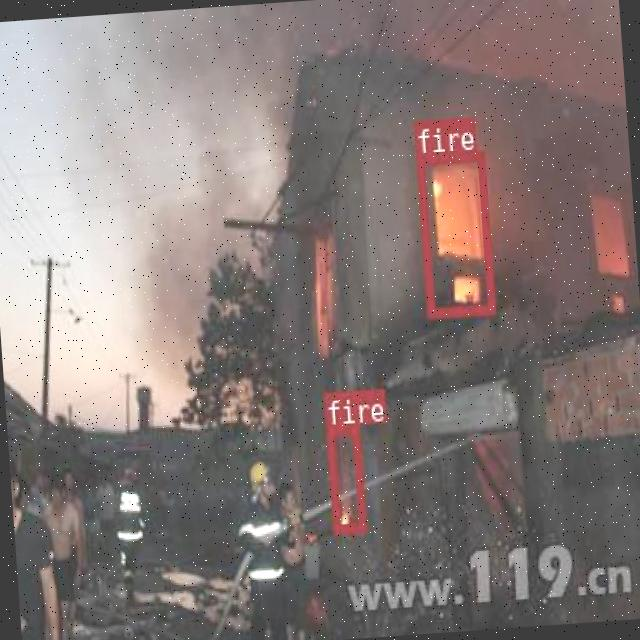fire: (414, 149, 494, 316), (326, 422, 364, 532)
